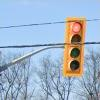traffic lights: (63, 17, 85, 76)
